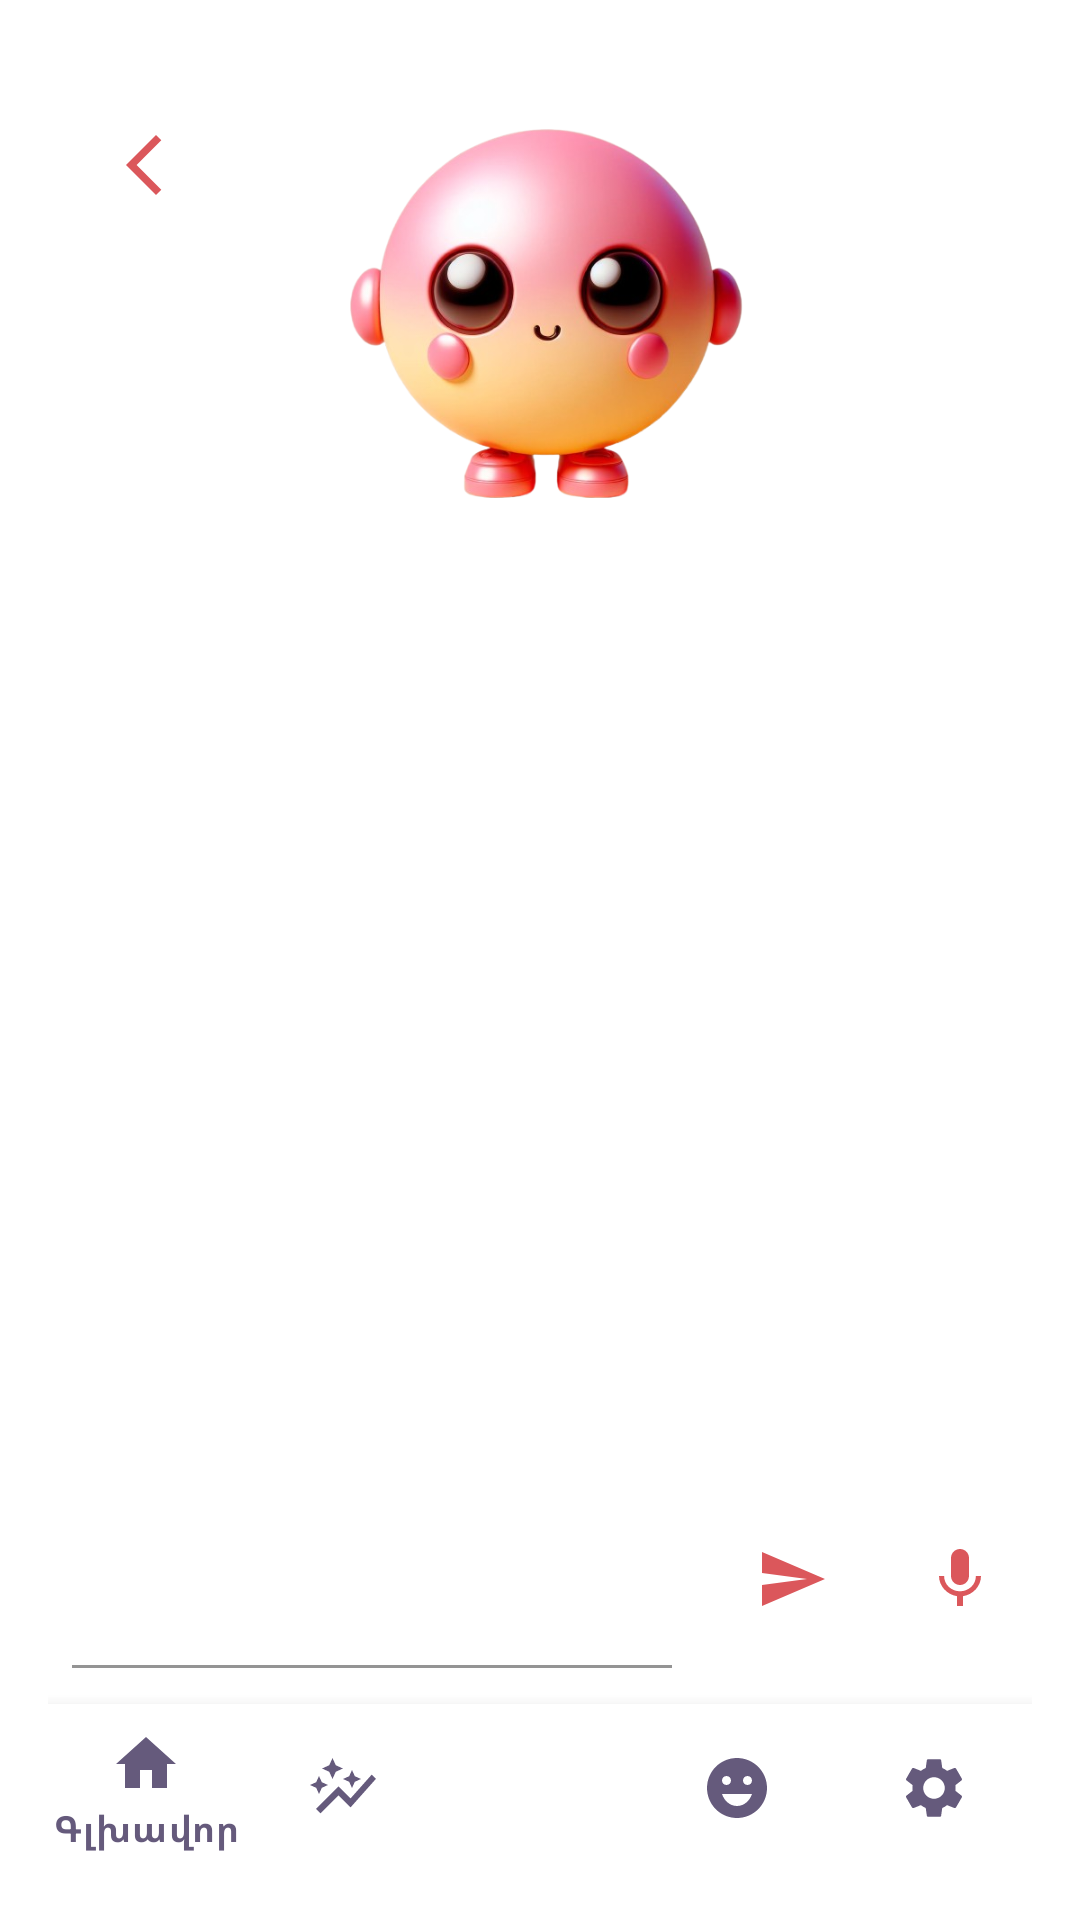

Icons on this 1080 × 1920 Android screen, each with the point to tap as [x,y]:
arrow back: [143,165]
mic: [960,1577]
send: [793,1579]
